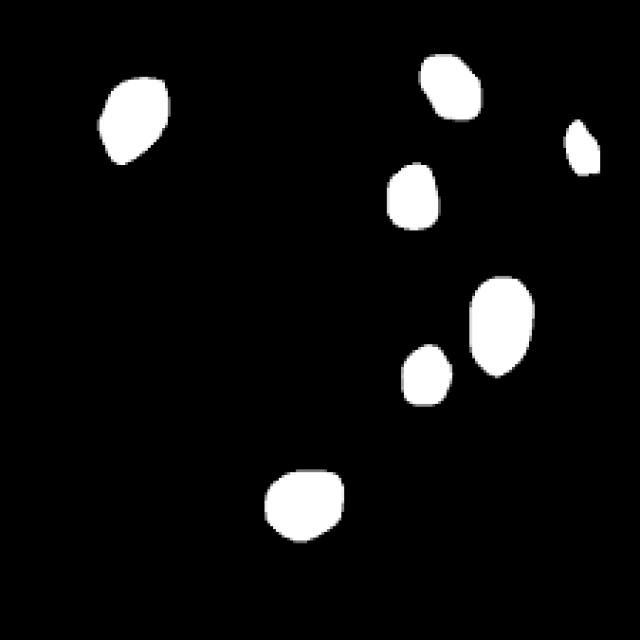cell: (93, 76, 166, 166), (471, 279, 529, 376), (270, 471, 341, 542), (423, 50, 481, 118), (396, 342, 451, 404), (388, 162, 437, 230), (564, 121, 602, 173)
